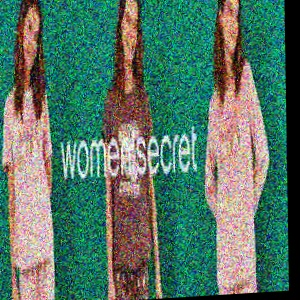women_secret: (153, 45, 245, 212)
